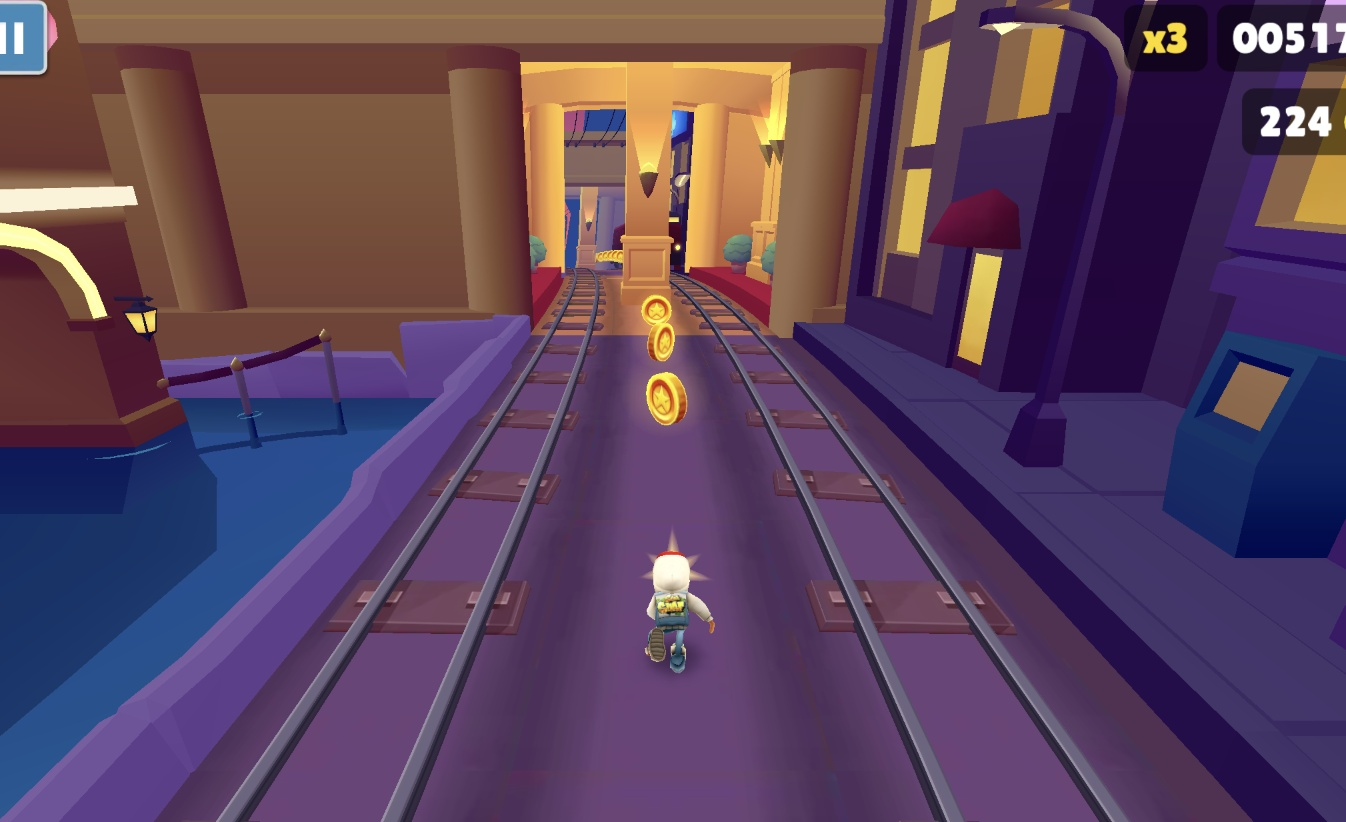pillar: (620, 74, 674, 292), (578, 188, 604, 268)
